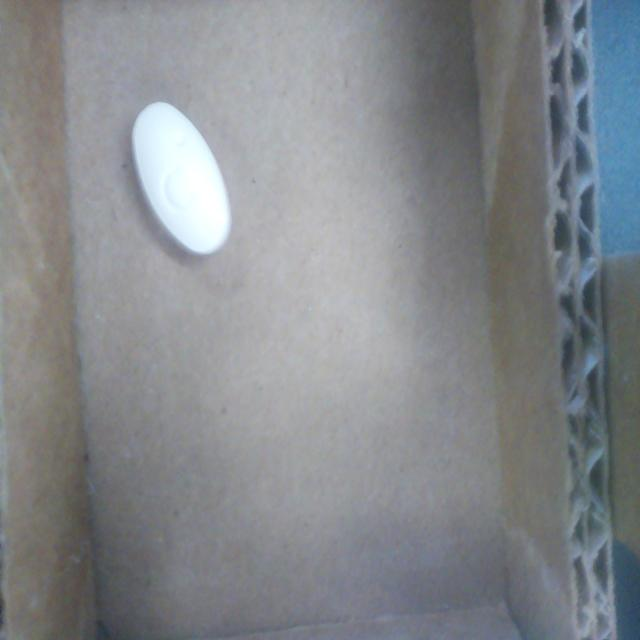pill: (132, 102, 231, 255)
